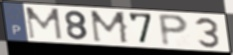3: (193, 16, 222, 50)
7: (127, 12, 154, 46)
8: (64, 9, 90, 41)
M: (88, 10, 131, 46), (24, 6, 65, 41)
P: (157, 12, 191, 48)
